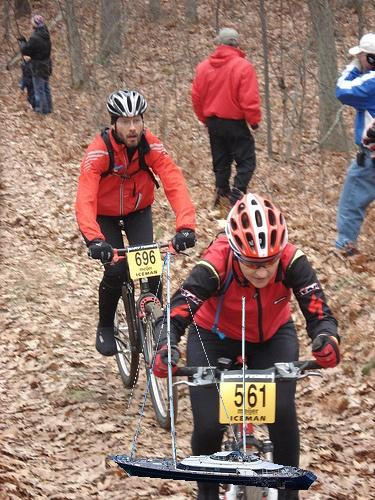tampered: (109, 252, 317, 490)
